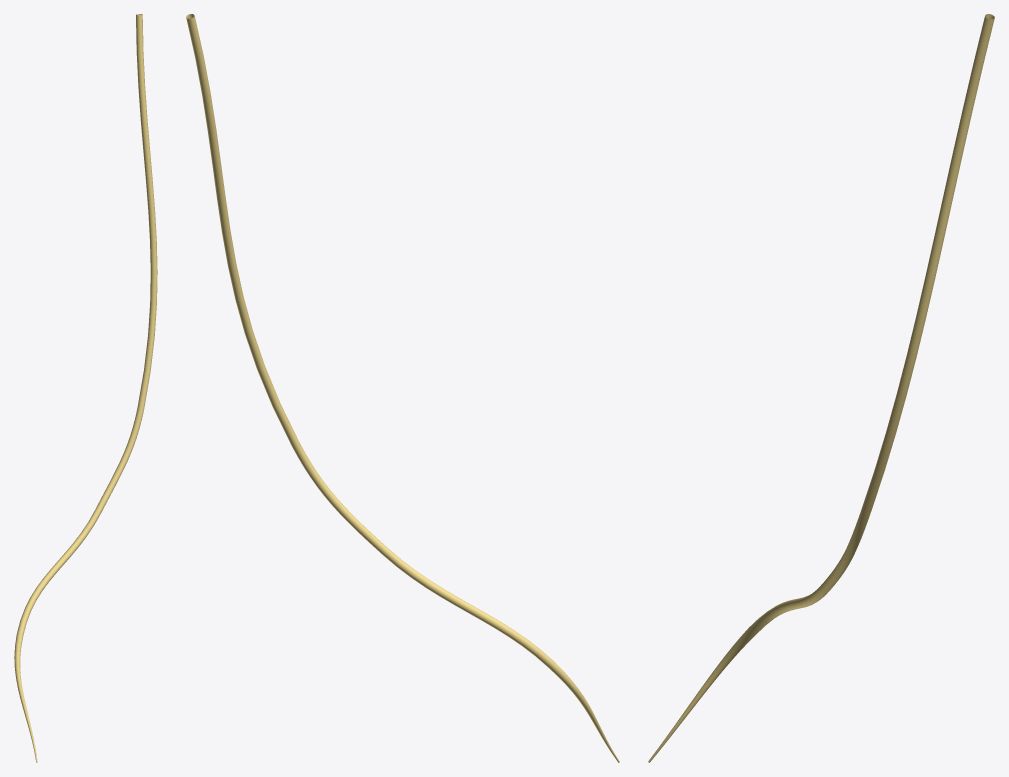
3 views of the same model, side by side, from view 1: azimuth 30°, elevation 25°; view 2: azimuth 150°, elevation 25°; view 3: azimuth 270°, elevation 25° (orthographic). The views are drawn at different scales.
Parts seen in each view (by area): view 1: ZA_8ac3b9ff749e6747; view 2: ZA_8ac3b9ff749e6747; view 3: ZA_8ac3b9ff749e6747.
Part boxes in pixels (x1,y1,x2,y2): ZA_8ac3b9ff749e6747: (14,14,157,762); ZA_8ac3b9ff749e6747: (186,14,619,762); ZA_8ac3b9ff749e6747: (648,14,994,762).
Size of the model in its own units: 0.0373 by 0.0986 by 0.0343.
